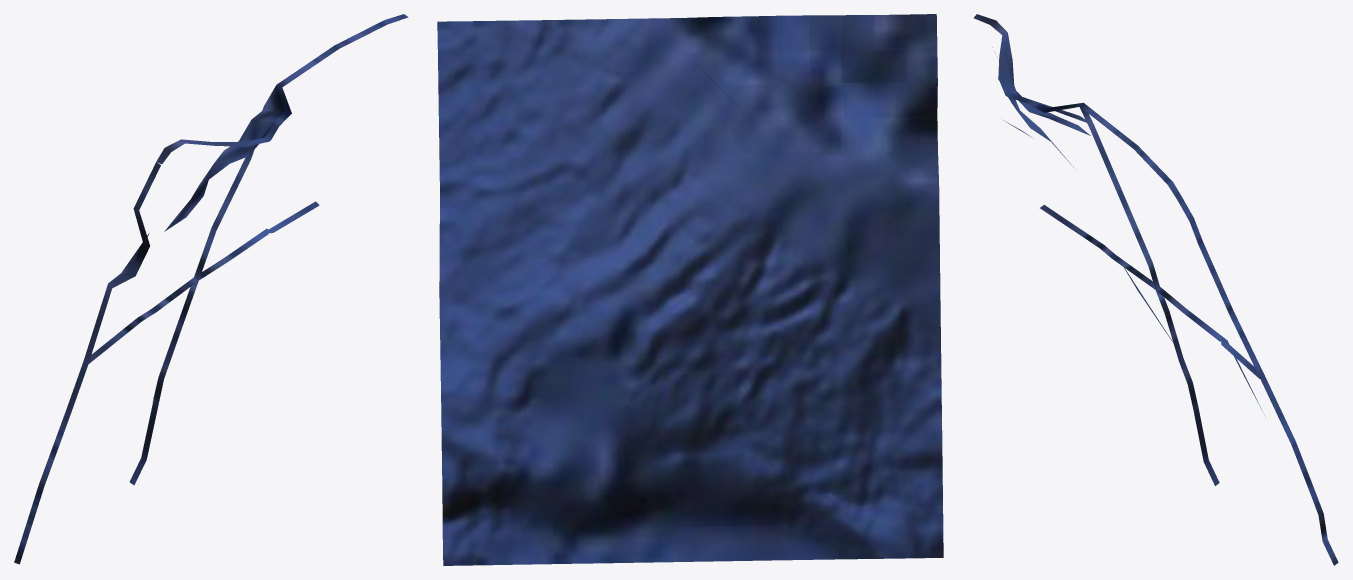
The picture shows the model from 3 angles, left to right: view 1: azimuth 30°, elevation 25°; view 2: azimuth 150°, elevation 25°; view 3: azimuth 270°, elevation 25°; orthographic projection. The views are drawn at different scales.
Bounding box in the file's own units: 19440 × 19057 × 14799.
Materials: 1 (1 with a texture image).
